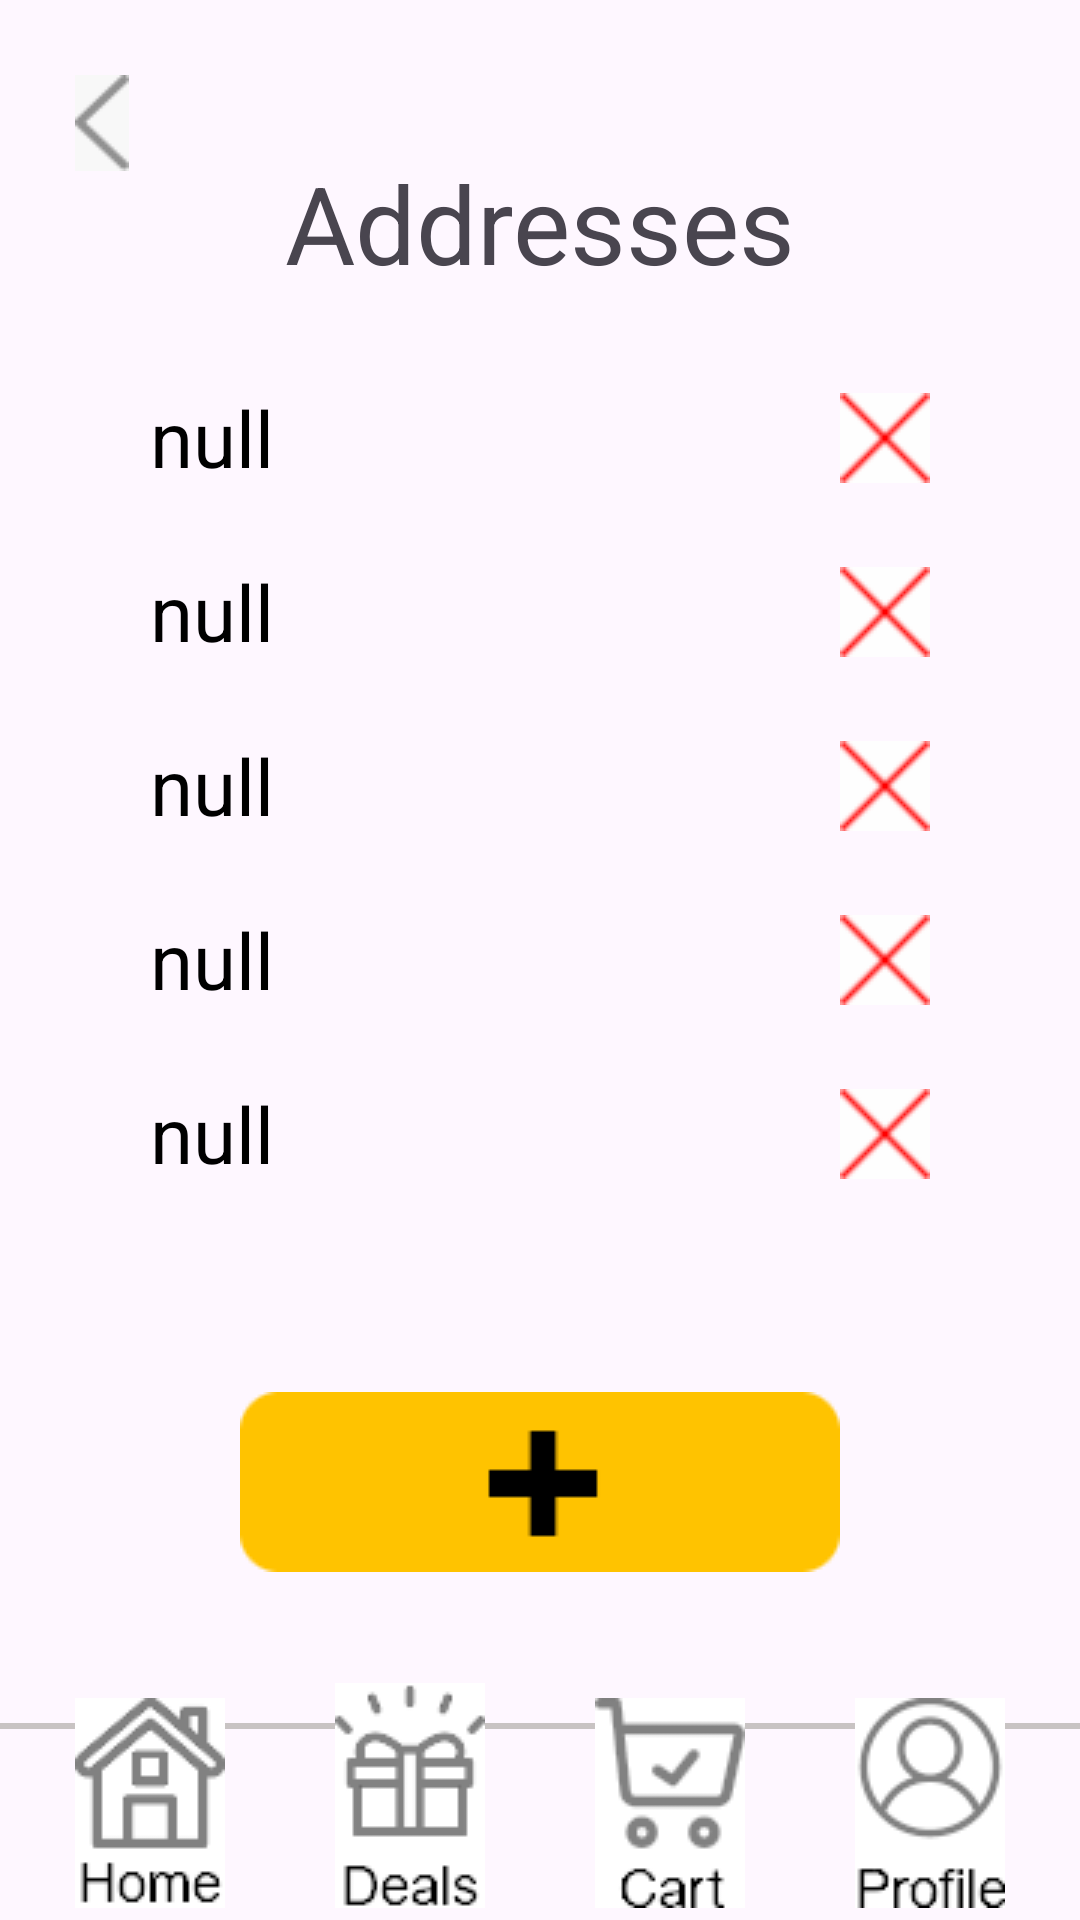

Named icons in this screenshot (1080px×1920px) and their bounding boxes, (x1, y1, x2, y2):
back: (75, 75, 129, 171)
